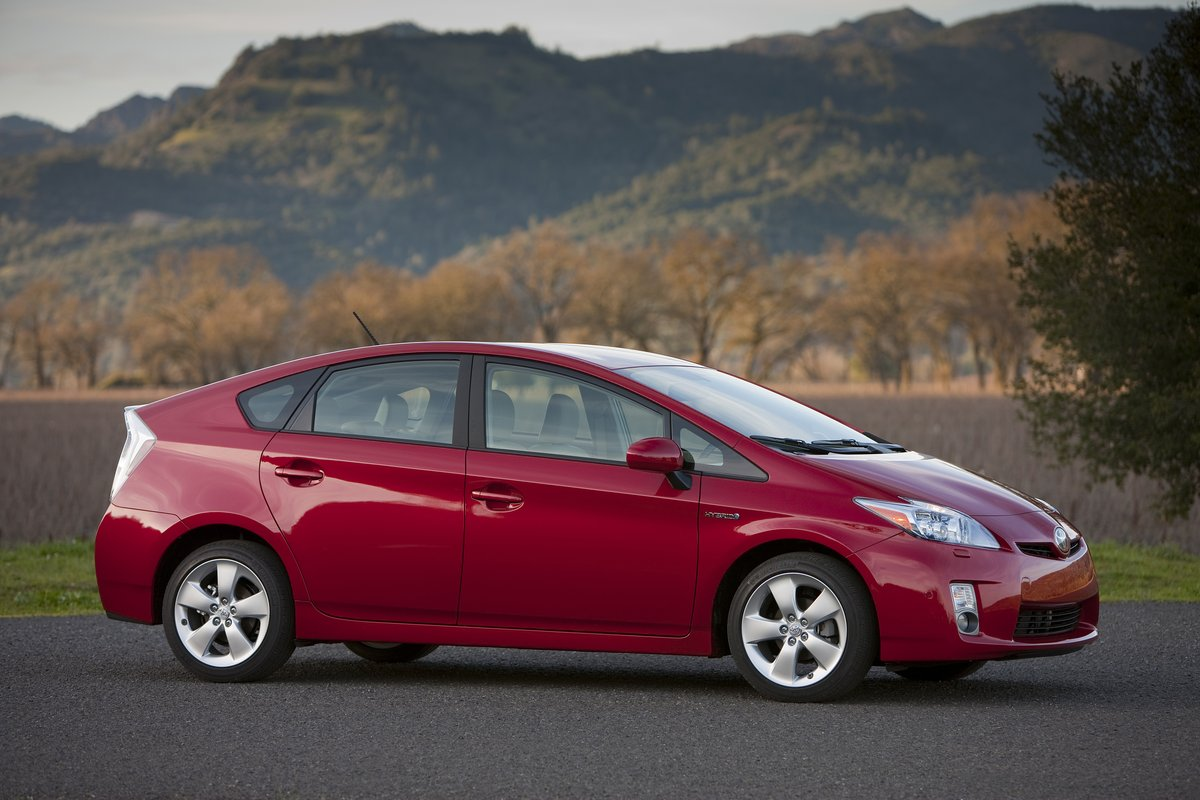Toyota Prius: (86, 336, 1106, 707)
